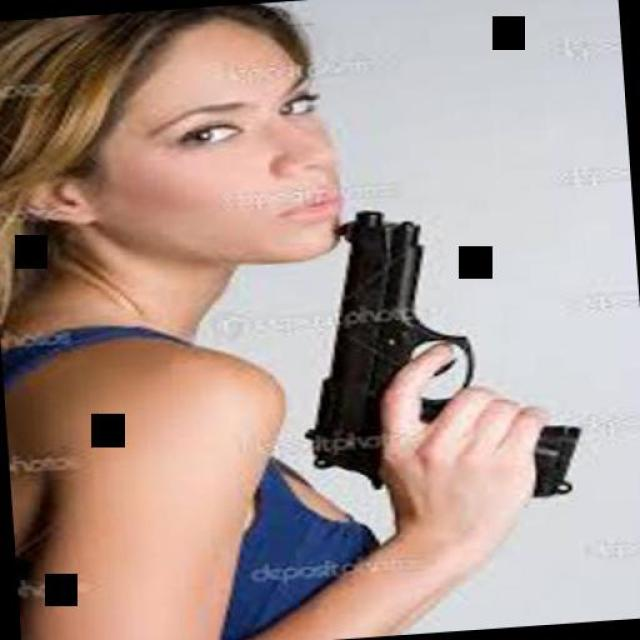gun: (295, 191, 579, 521)
